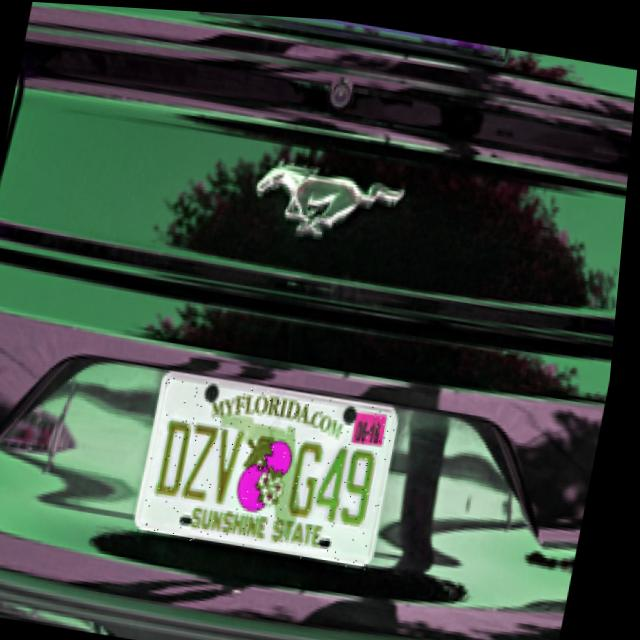license_plate: (144, 369, 407, 566)
